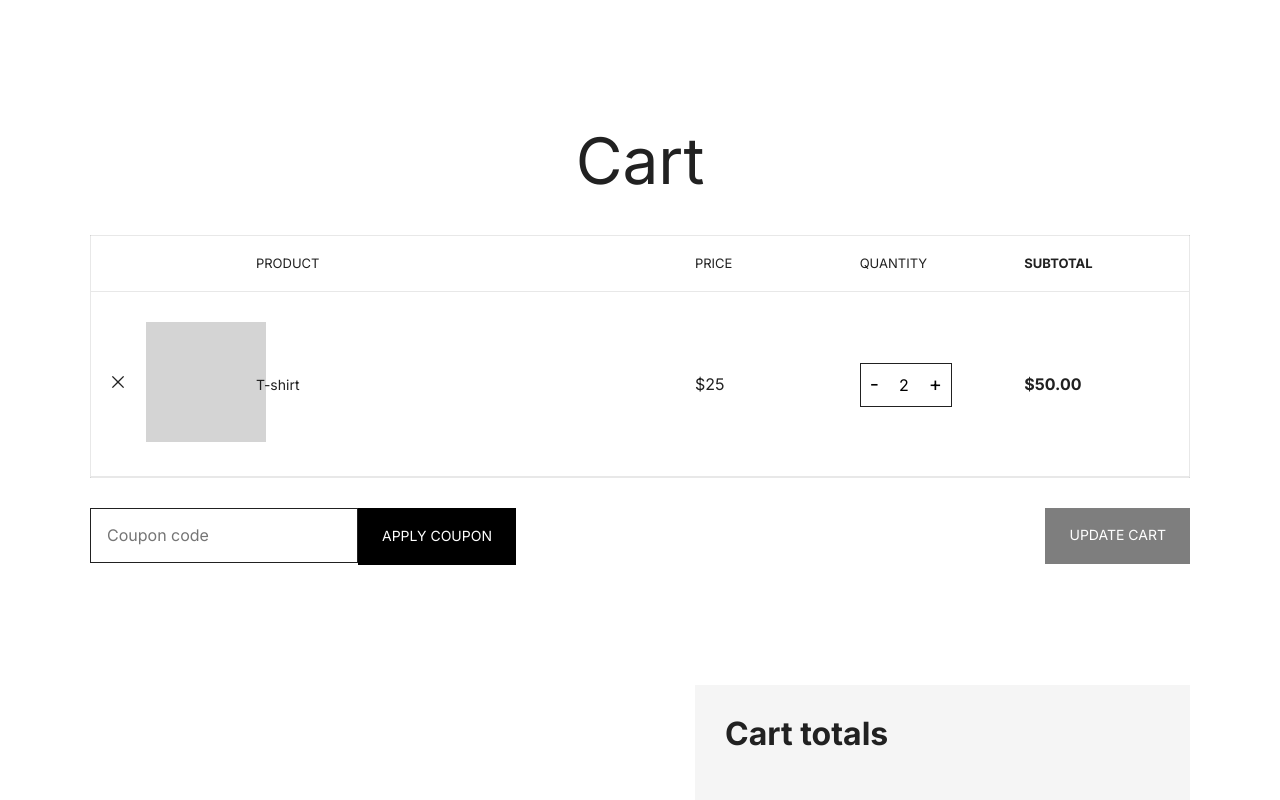
Test: Cart › should disable update cart button when is clicked
Step 1. Click the button named "increment quantity" → (935, 384), box [929,373,942,396]
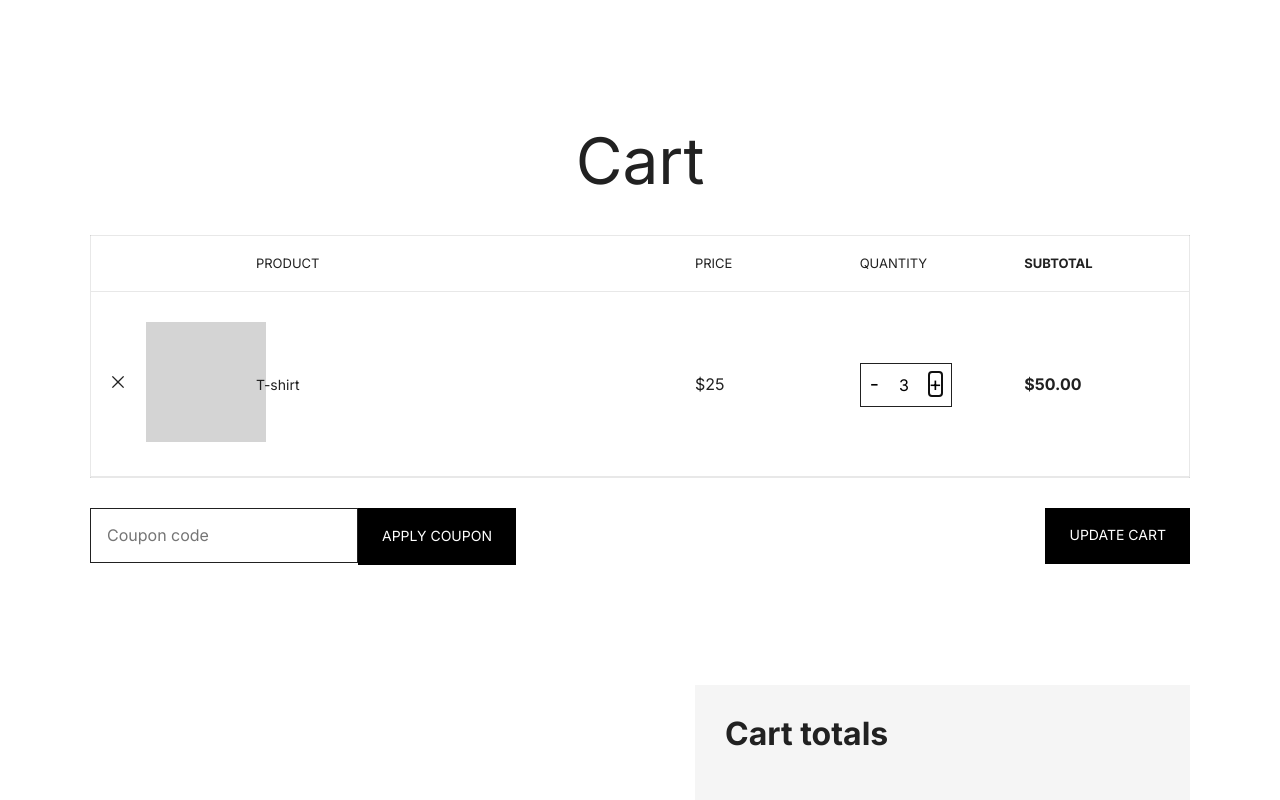
Step 2. Click the button with test id "update-cart-button" → (1118, 536), box [1046,508,1190,564]
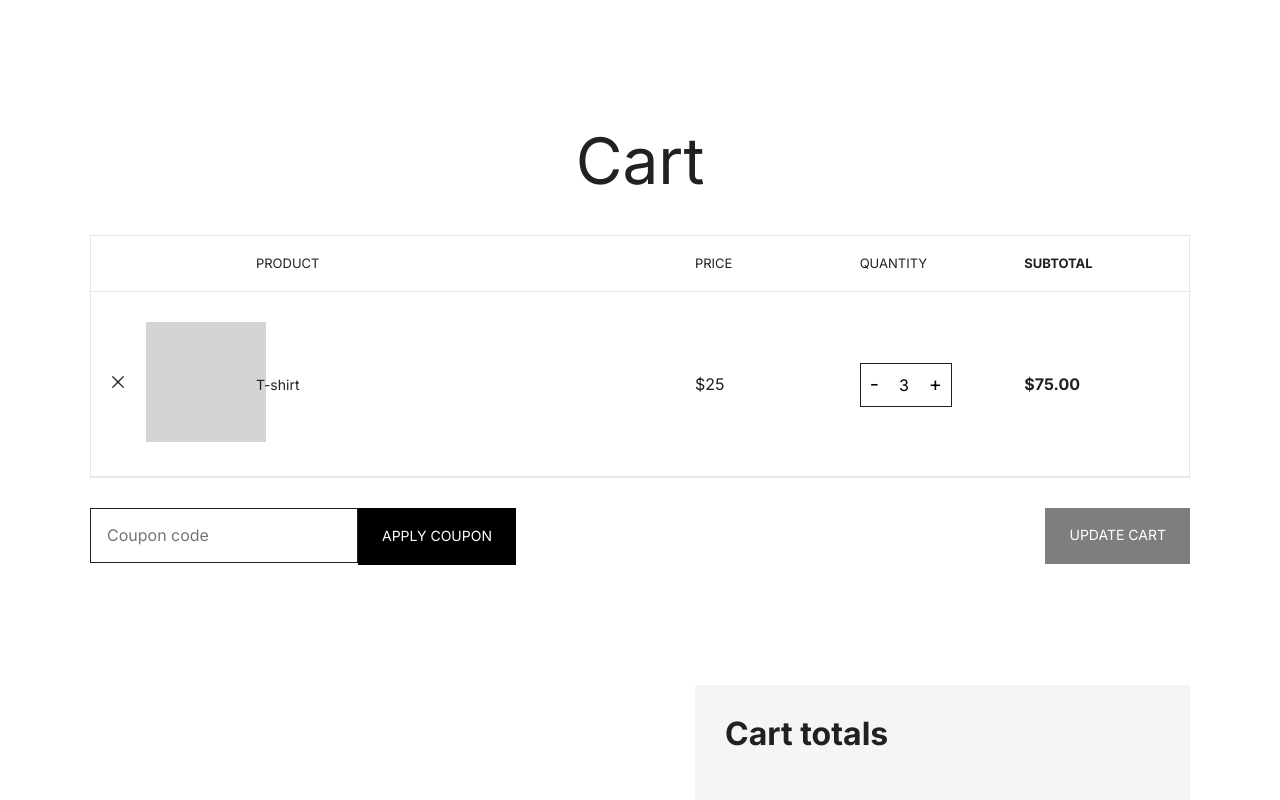
Now the button with test id "update-cart-button" is disabled, box [1046,508,1190,564]
